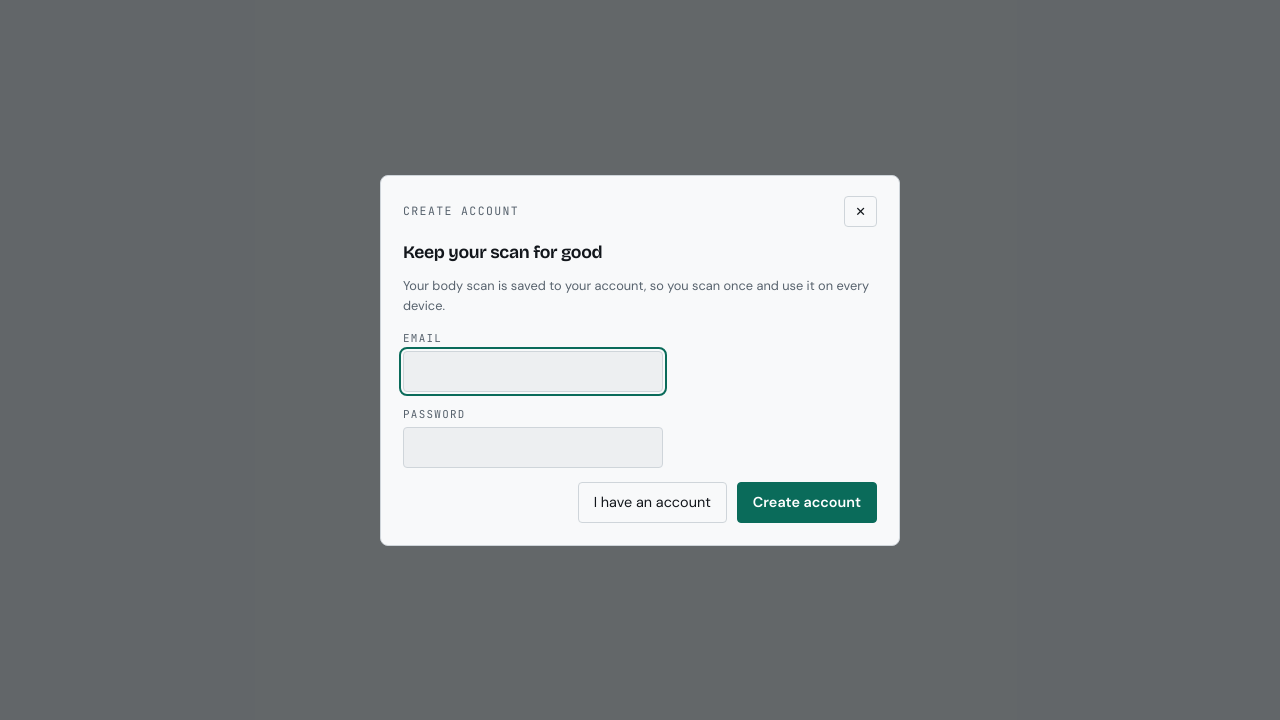
AuthModal › disables the button while a request is in flight (no double submit)
The image size is (1280, 720).
Type "me@example.com" into the field labelled "Email" at (533, 371), box [403,351,663,392]
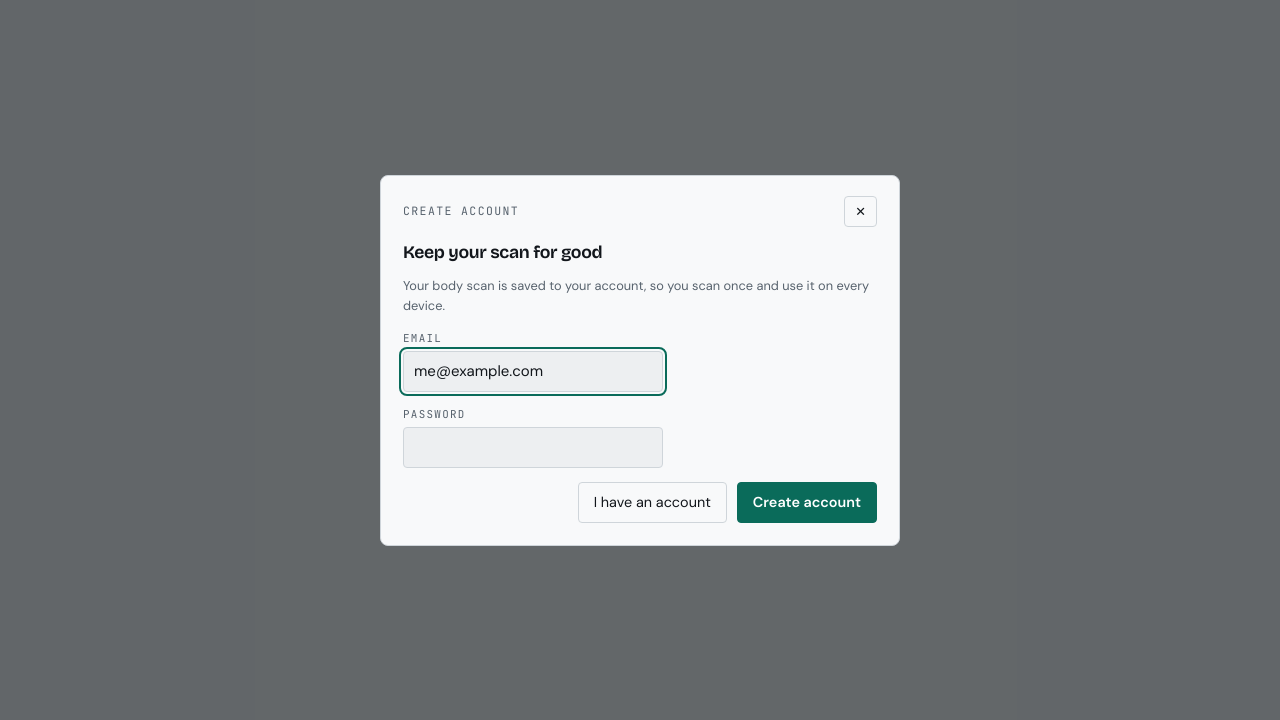
Type "password123" into the password field labelled "Password" at (533, 448), box [403,427,663,468]
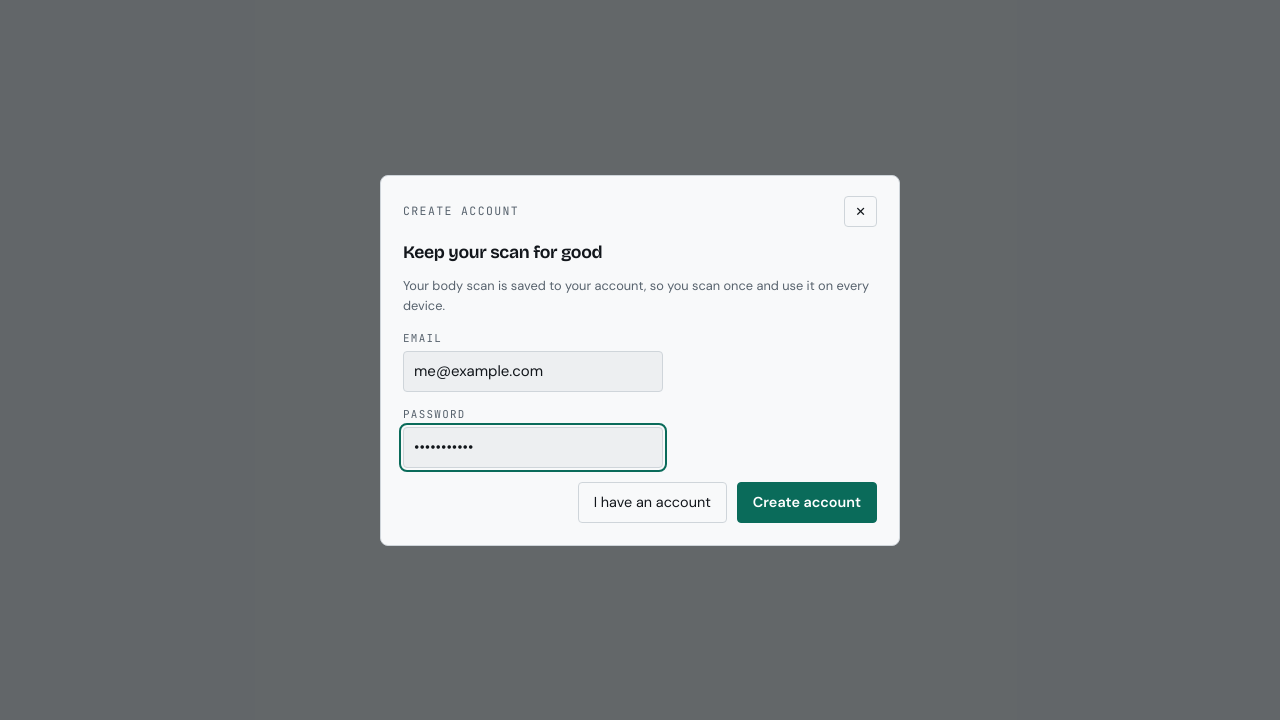
Click the button "Create account" at (807, 502), box [737,482,877,522]
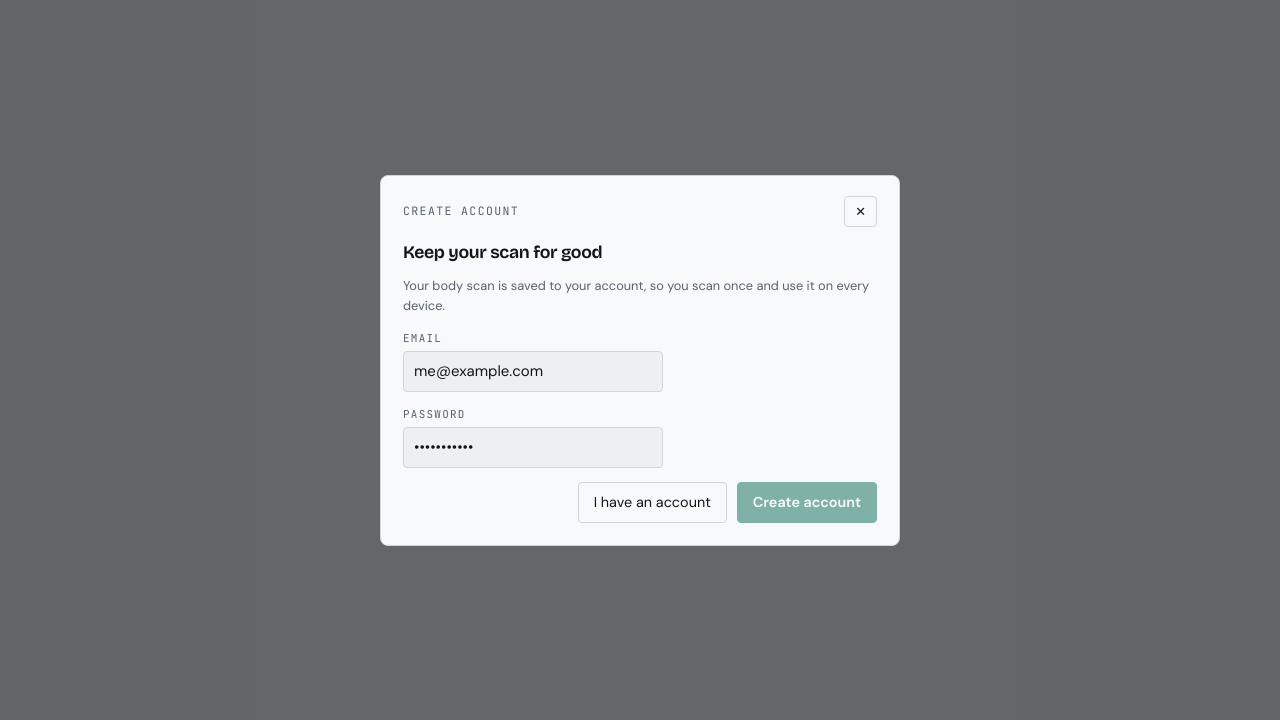
Check: the button "Create account" is disabled, box [737,482,877,522]
